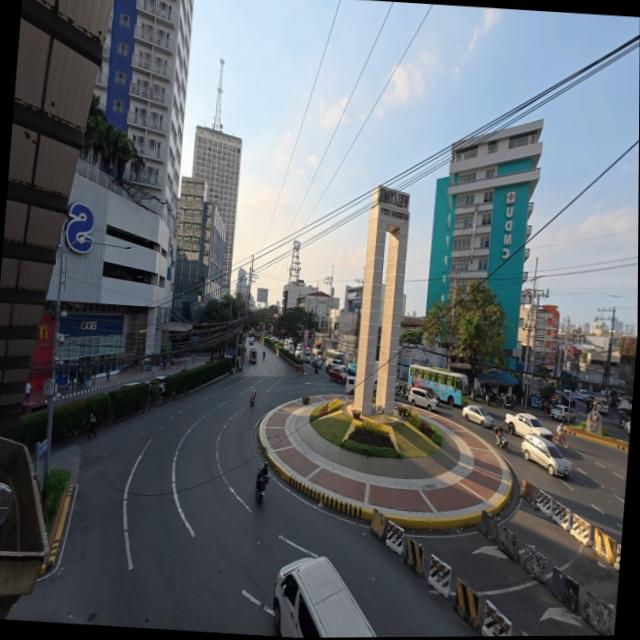Jeepneys: (248, 348, 256, 363)
bus: (407, 365, 467, 407), (325, 350, 344, 363)
car: (521, 434, 570, 476), (461, 403, 494, 427), (408, 387, 437, 411), (550, 406, 575, 423), (20, 401, 47, 415), (147, 376, 164, 394), (555, 390, 574, 406), (328, 367, 346, 383), (325, 359, 341, 371), (326, 365, 346, 374), (118, 382, 139, 389), (578, 390, 590, 402), (302, 350, 310, 363), (310, 358, 320, 368), (623, 420, 630, 434), (347, 363, 355, 375), (249, 338, 253, 345)
motorcycle: (254, 474, 267, 503), (494, 427, 508, 451), (554, 433, 568, 448), (486, 391, 501, 404), (469, 388, 483, 401), (501, 395, 513, 408), (619, 416, 628, 428), (249, 392, 254, 405), (313, 365, 317, 374), (262, 353, 264, 360)
trucks: (505, 413, 552, 441)
vans: (272, 557, 374, 637), (593, 399, 608, 414), (344, 374, 354, 394)
